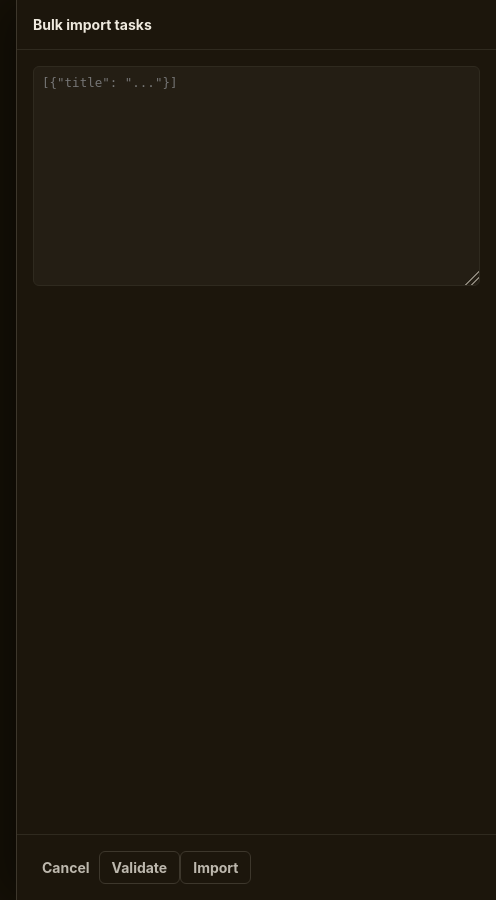
Test: BulkImportPanel › shows a parse error for invalid JSON
This screenshot has width=496, height=900.
Type "not json" into the text box named "Tasks JSON".
click(256, 176); type("not json")  # box [33, 66, 480, 286]
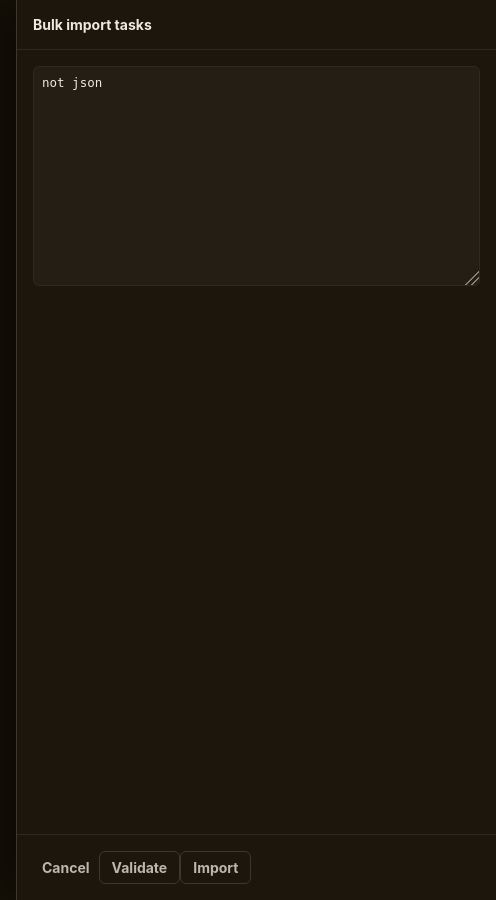
Click the button "Validate".
click(139, 868)  # box [99, 851, 180, 884]
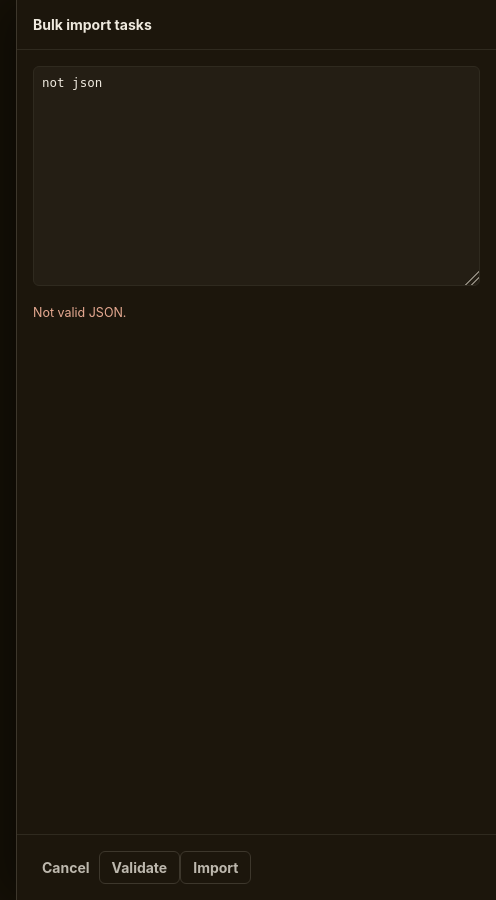
Expected: the text "Not valid JSON." is shown, [33, 305, 126, 320]
